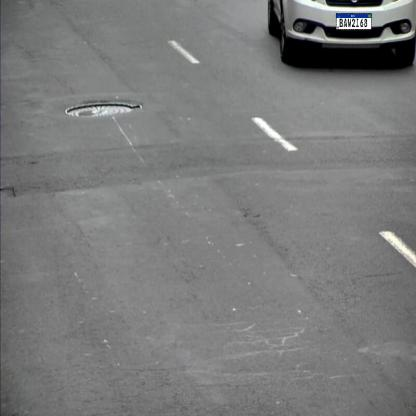PlacaM: (336, 13, 372, 30)
